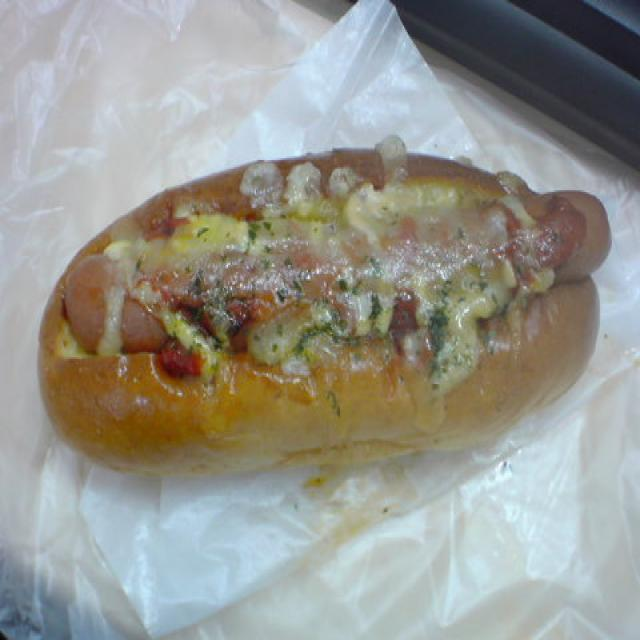三明治: (40, 150, 617, 477)
